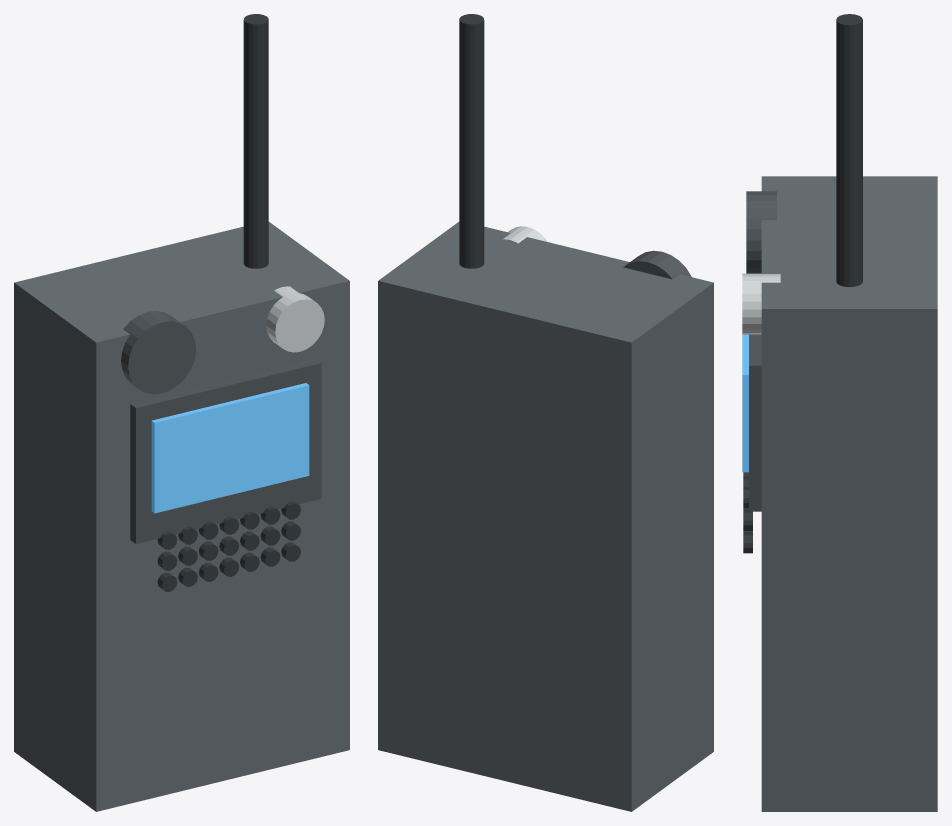
File: radio.glb
The picture shows the model from 3 angles, left to right: view 1: azimuth 30°, elevation 25°; view 2: azimuth 150°, elevation 25°; view 3: azimuth 270°, elevation 25°; orthographic projection. The views are drawn at different scales.
Visible parts, largest first — view 1: part_0, part_2, part_1, part_26, part_24, part_25; view 2: part_0, part_26, part_24; view 3: part_0, part_26, part_1, part_24, part_25, part_2.
Part boxes in pixels (box(x1,y1,x2,y2)): part_0: box(14, 222, 349, 811); part_2: box(151, 383, 309, 513); part_1: box(130, 358, 321, 543); part_26: box(243, 14, 268, 268); part_24: box(121, 311, 195, 394); part_25: box(266, 286, 324, 352); part_0: box(378, 222, 713, 811); part_26: box(459, 14, 484, 268); part_24: box(623, 250, 691, 279); part_0: box(761, 176, 937, 811); part_26: box(836, 14, 862, 287); part_1: box(749, 334, 761, 511); part_24: box(746, 191, 776, 273); part_25: box(742, 273, 780, 334); part_2: box(742, 334, 748, 472).
Bounding box in the file's own units: 0.82 × 2.21 × 0.51.
